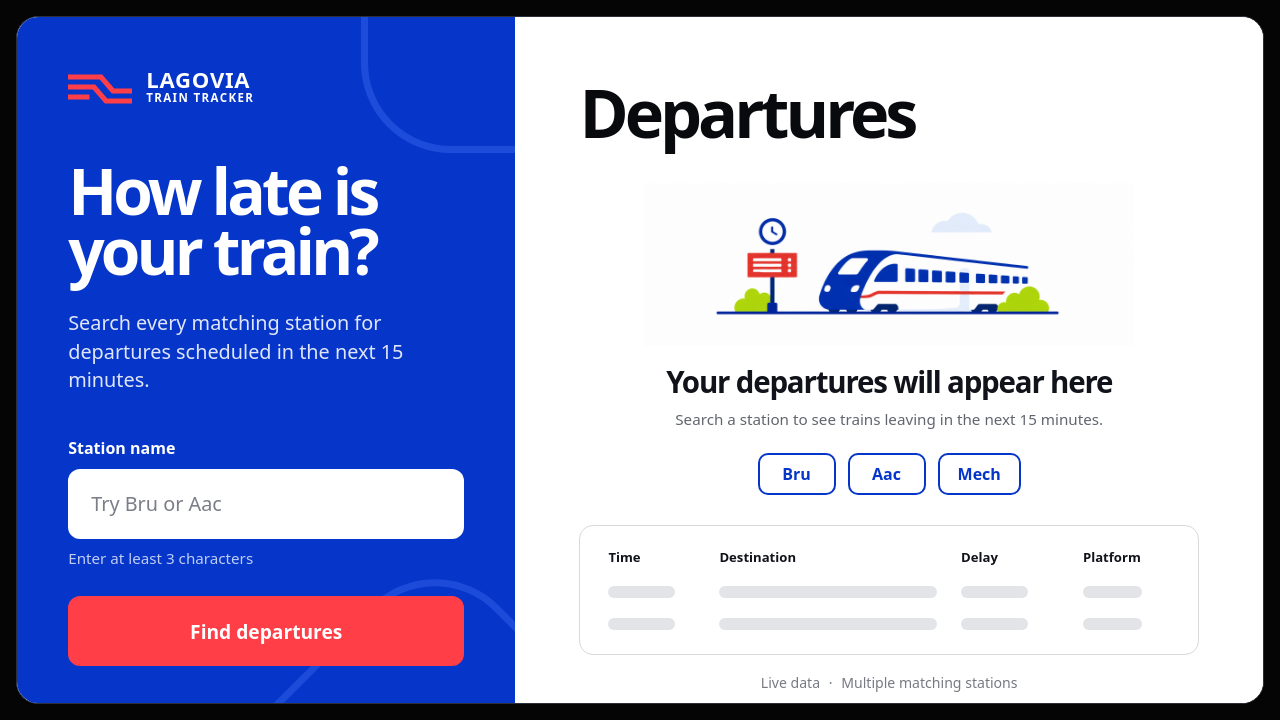
Test: App › disables submission and announces loading
In the search field labelled "Station name": (266, 504) [68,469,464,539], type "Aac"
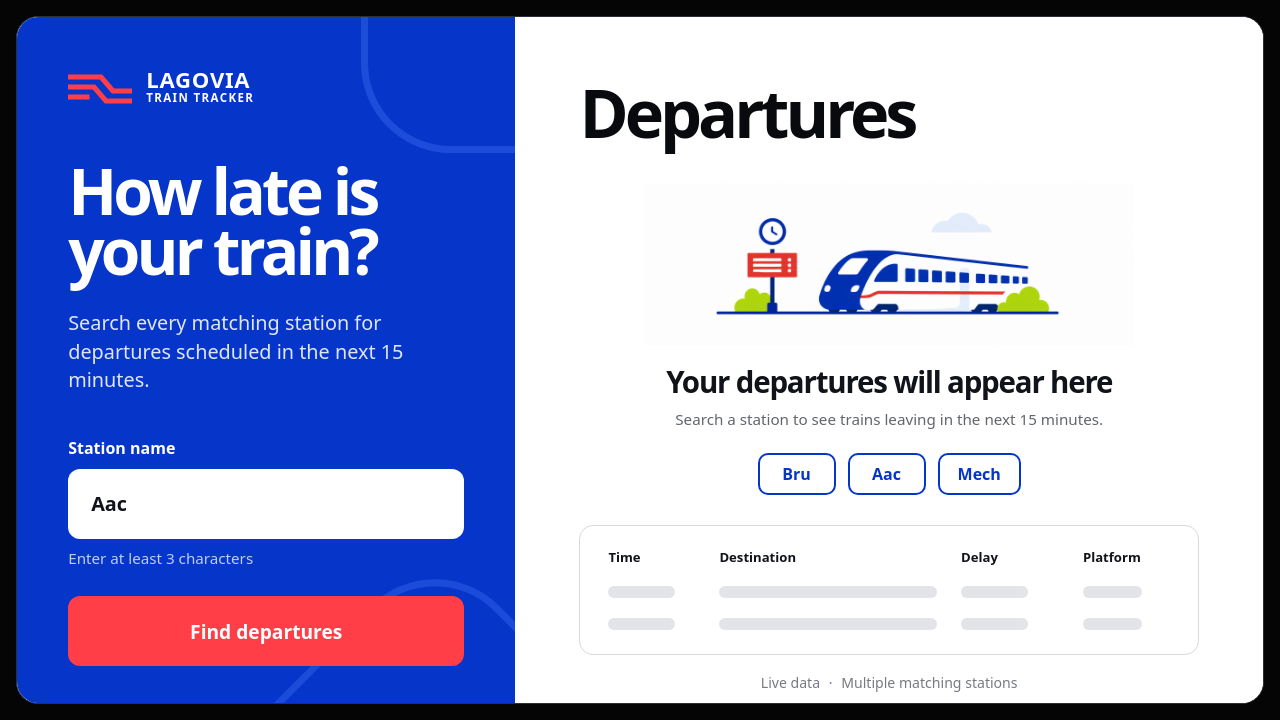
Click the button "Find departures": (266, 631) [68,596,464,666]
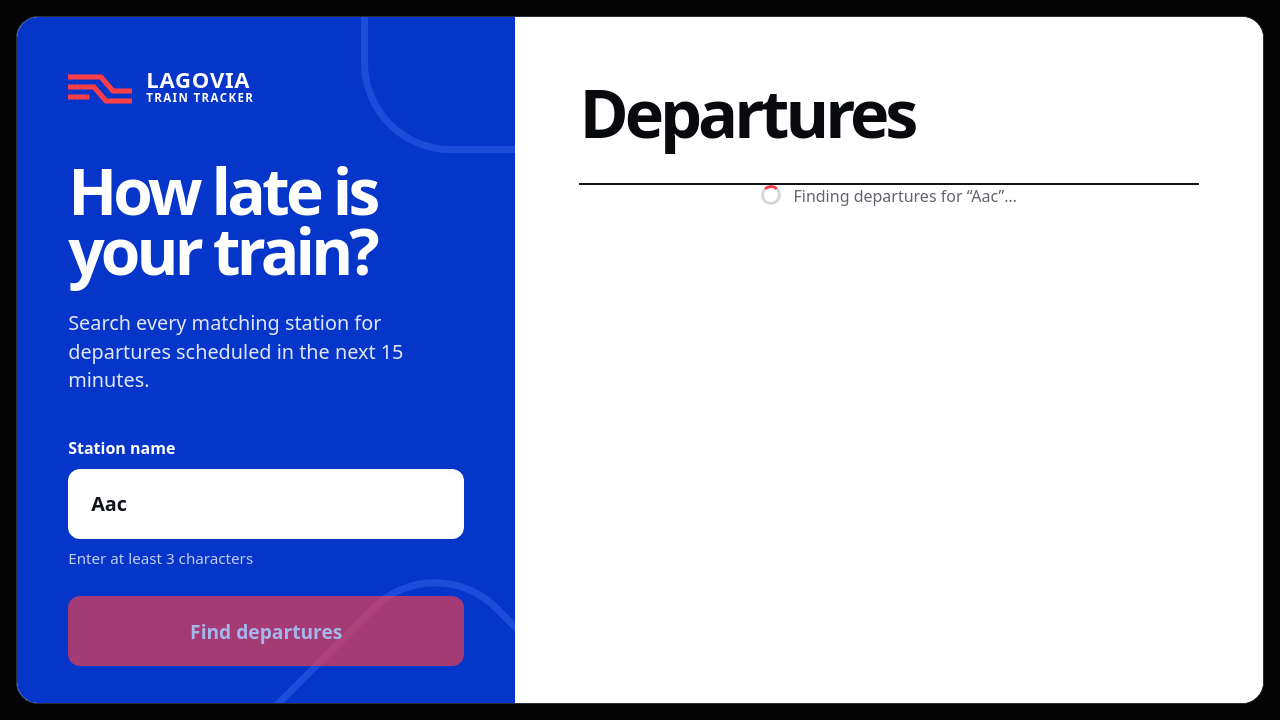
Expected: the button "Find departures" is disabled, [68,596,464,666]
Expected: the text "Finding departures for “Aac”…" is shown, [794,185,1017,207]
